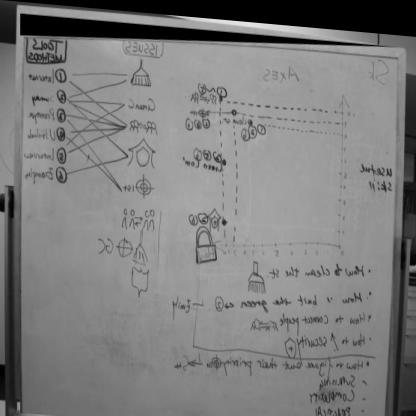Handwritten text: (220, 342, 368, 374), (234, 280, 368, 310), (264, 248, 369, 280), (279, 304, 369, 325), (257, 55, 301, 84), (299, 381, 361, 399), (308, 396, 359, 414), (295, 325, 329, 352), (359, 151, 398, 173), (124, 35, 164, 56), (311, 367, 360, 383), (125, 88, 159, 111), (24, 163, 57, 185), (23, 144, 58, 163), (27, 64, 58, 85), (28, 49, 67, 64), (28, 35, 64, 51), (28, 105, 58, 124), (27, 123, 57, 142), (31, 87, 58, 107), (341, 323, 368, 343), (366, 170, 395, 186), (319, 410, 355, 416)
Whiteboard: (13, 31, 411, 416)
